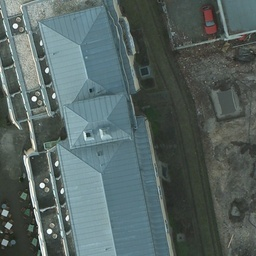car: (199, 4, 220, 36)
